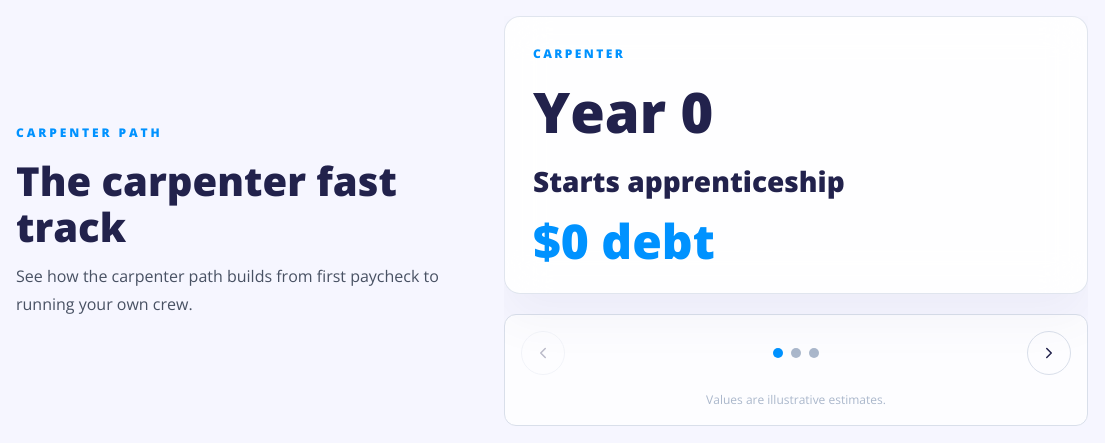
Test: ScreenSpeedRun › renders the active carpenter milestone label and value
Expected: the text "Starts apprenticeship" is shown, [533,162,845,200]
Expected: the text "$0 debt" is shown, [533,208,715,273]
What coordinates should you click on to do the following:
click the button named "Show next comparison year"
I would click on:
 (1049, 353)
Its box is [1027,331,1071,375].
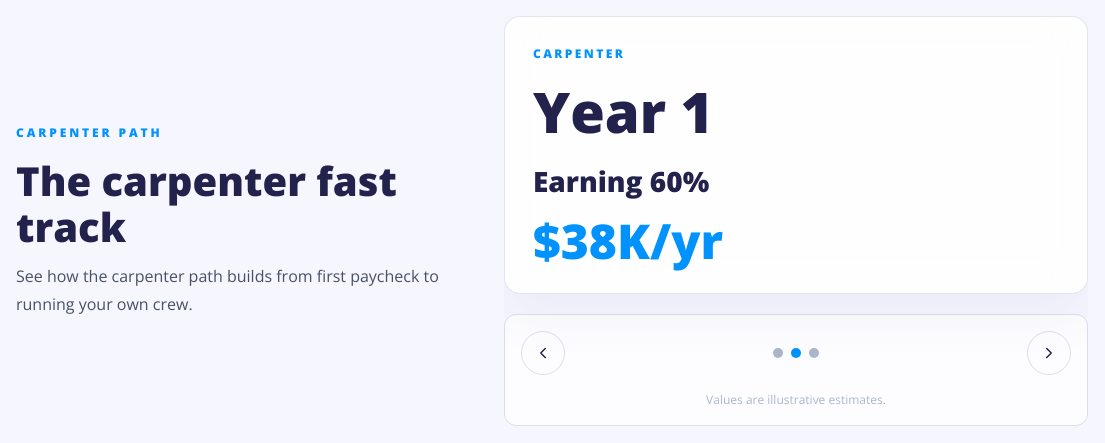
Now the text "$38K/yr" is shown, box [533,208,723,273]
